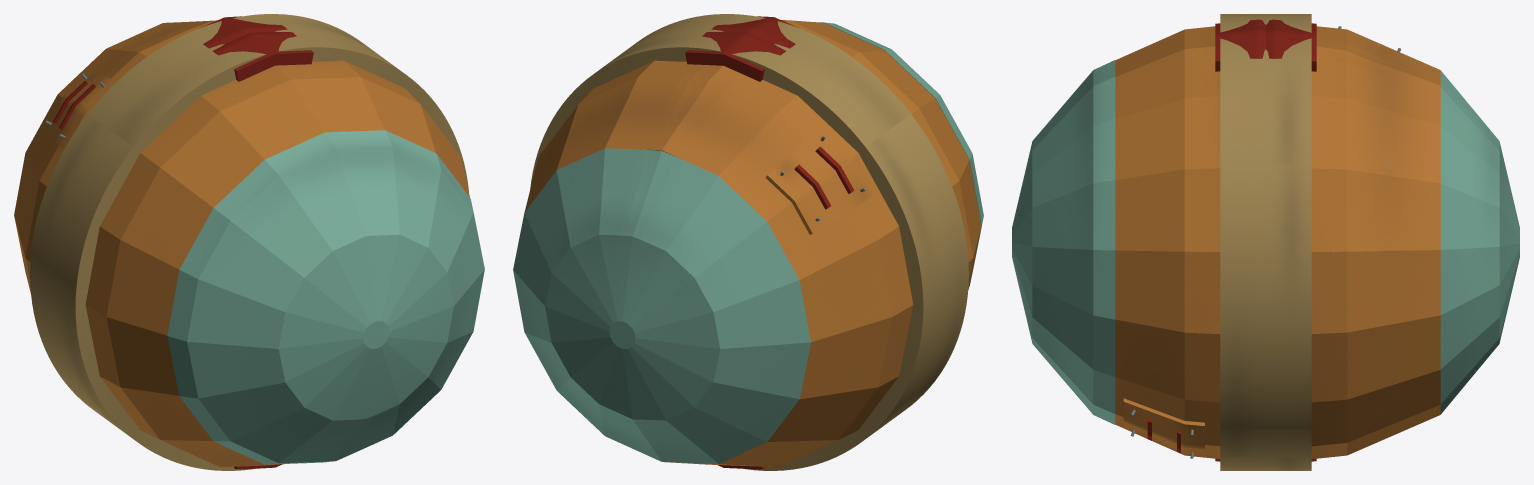
3 renders of one model, left to right at view 1: azimuth 30°, elevation 25°; view 2: azimuth 150°, elevation 25°; view 3: azimuth 270°, elevation 25°, orthographic.
Visible parts, largest first — view 1: Artemian Freezer red forward cap, Artemian Freezer green forward shell, Artemian Freezer gold transverse belt, Artemian Freezer green rear shell, Artemian Freezer green longitudinal strap 1, Artemian Freezer service cover 1, Artemian Freezer green longitudinal strap 3; view 2: Artemian Freezer red rear cap, Artemian Freezer green rear shell, Artemian Freezer gold transverse belt, Artemian Freezer green forward shell, Artemian Freezer service cover 1, Artemian Freezer green longitudinal strap 3, Artemian Freezer red forward cap, Artemian Freezer green longitudinal strap 1; view 3: Artemian Freezer green rear shell, Artemian Freezer green forward shell, Artemian Freezer gold transverse belt, Artemian Freezer red forward cap, Artemian Freezer red rear cap, Artemian Freezer service cover 0, Artemian Freezer green longitudinal strap 1, Artemian Freezer green longitudinal strap 3.
Part boxes in pixels (left/top/right/bottom): Artemian Freezer red forward cap: left=167, top=130, right=484, bottom=464; Artemian Freezer green forward shell: left=85, top=60, right=469, bottom=467; Artemian Freezer gold transverse belt: left=30, top=14, right=468, bottom=470; Artemian Freezer green rear shell: left=14, top=20, right=216, bottom=293; Artemian Freezer green longitudinal strap 1: left=213, top=32, right=313, bottom=81; Artemian Freezer service cover 1: left=45, top=71, right=115, bottom=149; Artemian Freezer green longitudinal strap 3: left=202, top=16, right=287, bottom=48; Artemian Freezer red rear cap: left=513, top=148, right=810, bottom=463; Artemian Freezer green rear shell: left=524, top=60, right=913, bottom=467; Artemian Freezer gold transverse belt: left=530, top=14, right=968, bottom=470; Artemian Freezer green forward shell: left=781, top=20, right=981, bottom=289; Artemian Freezer service cover 1: left=765, top=128, right=872, bottom=234; Artemian Freezer green longitudinal strap 3: left=685, top=32, right=785, bottom=81; Artemian Freezer red forward cap: left=815, top=22, right=983, bottom=286; Artemian Freezer green longitudinal strap 1: left=711, top=16, right=796, bottom=48; Artemian Freezer green rear shell: left=1311, top=26, right=1440, bottom=458; Artemian Freezer green forward shell: left=1115, top=26, right=1220, bottom=458; Artemian Freezer gold transverse belt: left=1220, top=14, right=1311, bottom=470; Artemian Freezer red forward cap: left=1012, top=60, right=1115, bottom=424; Artemian Freezer red rear cap: left=1440, top=70, right=1519, bottom=414; Artemian Freezer service cover 0: left=1123, top=398, right=1204, bottom=455; Artemian Freezer green longitudinal strap 1: left=1215, top=19, right=1265, bottom=71; Artemian Freezer green longitudinal strap 3: left=1266, top=19, right=1316, bottom=71.
Bounding box in the file's own units: 0.9 × 0.92 × 1.
5 materials, 3 textured.
